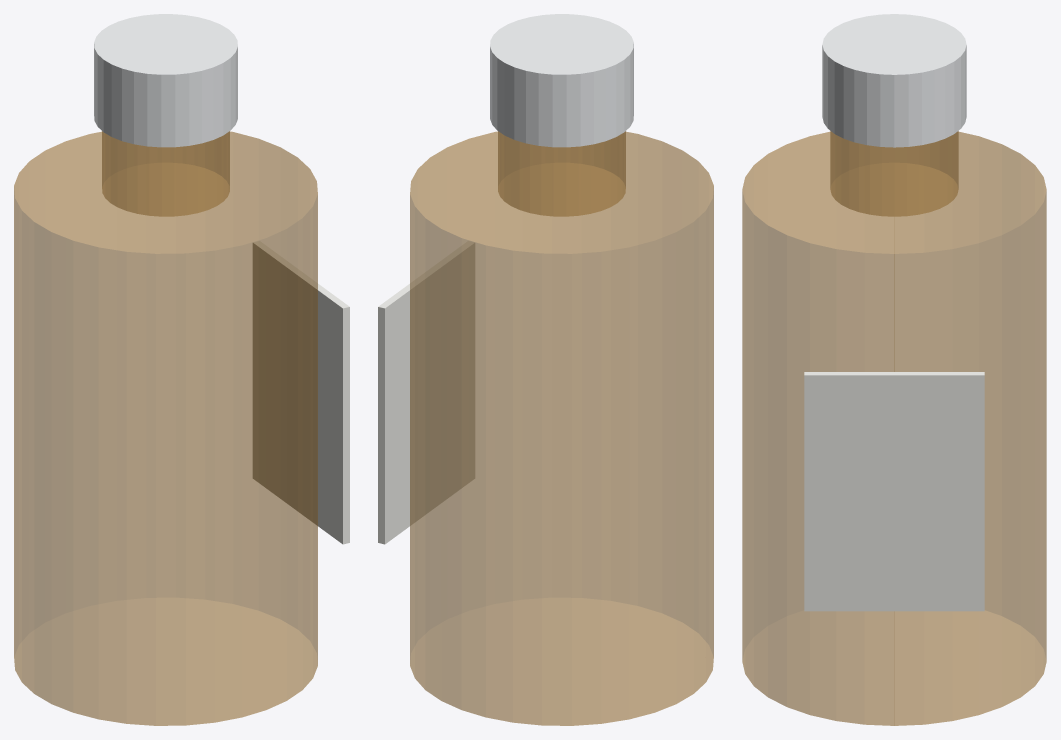
Rendered from SM_Bottle_Amber_HCl.glb.
3 views of the same model, side by side, from view 1: azimuth 30°, elevation 25°; view 2: azimuth 150°, elevation 25°; view 3: azimuth 270°, elevation 25° (orthographic).
Visible parts, largest first — view 1: Bottle_Amber_HCl_Body, Bottle_Amber_HCl_Label, Bottle_Amber_HCl_Cap, Bottle_Amber_HCl_Neck; view 2: Bottle_Amber_HCl_Body, Bottle_Amber_HCl_Label, Bottle_Amber_HCl_Cap, Bottle_Amber_HCl_Neck; view 3: Bottle_Amber_HCl_Body, Bottle_Amber_HCl_Label, Bottle_Amber_HCl_Cap, Bottle_Amber_HCl_Neck.
Boxes of the visible parts, left/top/right/bottom form: Bottle_Amber_HCl_Body: left=14, top=131, right=317, bottom=725; Bottle_Amber_HCl_Label: left=253, top=241, right=349, bottom=544; Bottle_Amber_HCl_Cap: left=94, top=14, right=237, bottom=147; Bottle_Amber_HCl_Neck: left=102, top=131, right=229, bottom=216; Bottle_Amber_HCl_Body: left=410, top=131, right=713, bottom=725; Bottle_Amber_HCl_Label: left=378, top=241, right=474, bottom=544; Bottle_Amber_HCl_Cap: left=490, top=14, right=633, bottom=147; Bottle_Amber_HCl_Neck: left=498, top=131, right=625, bottom=216; Bottle_Amber_HCl_Body: left=742, top=132, right=1046, bottom=725; Bottle_Amber_HCl_Label: left=804, top=372, right=984, bottom=611; Bottle_Amber_HCl_Cap: left=822, top=14, right=966, bottom=147; Bottle_Amber_HCl_Neck: left=830, top=131, right=958, bottom=216.
Size of the model in its own units: 0.078 by 0.17 by 0.076.
